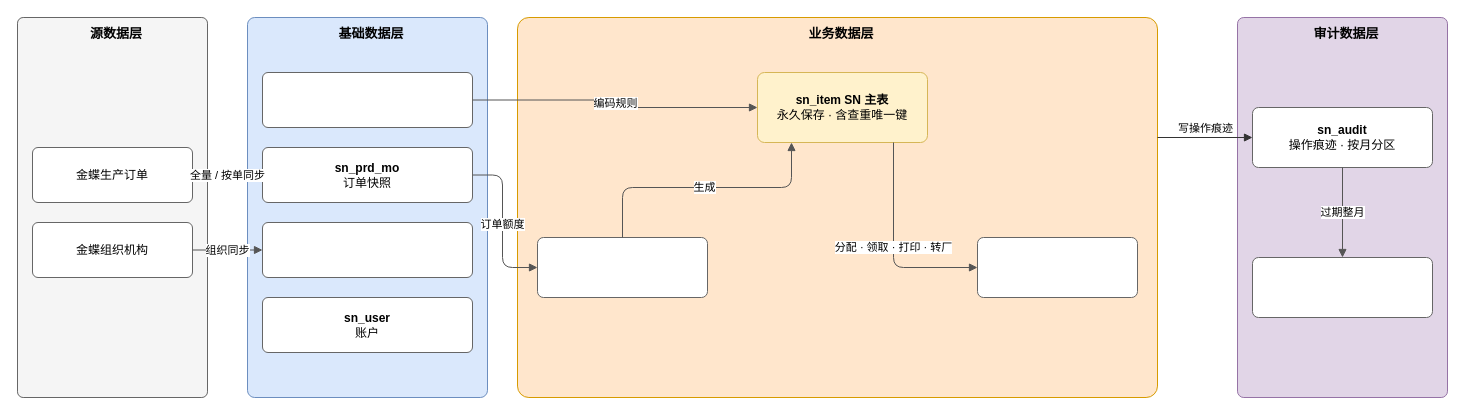
The diagram is 1465 pixels wide and 415 high, and some of its shapes have lost their labels. Here are the shapes that lost their labels. From the top down, the centre of each, then its label:
At point 367,100: "sn_rule / sn_rule_version 规则与版本".
At point 367,250: "sn_factory 工厂".
At point 622,267: "sn_pi_counter PI 最大号 sn_bill_gen 订单已生成数".
At point 1057,267: "作业单据 批次 · 打印单 · 转厂单 · 分配".
At point 1342,287: "sn_audit_archive 过期整月归档".
